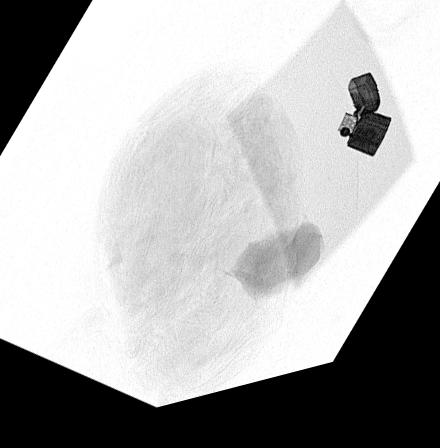Lighter: (336, 90, 393, 176)
